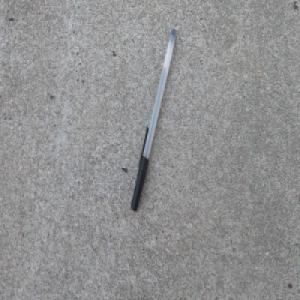Pen: (129, 27, 177, 212)
